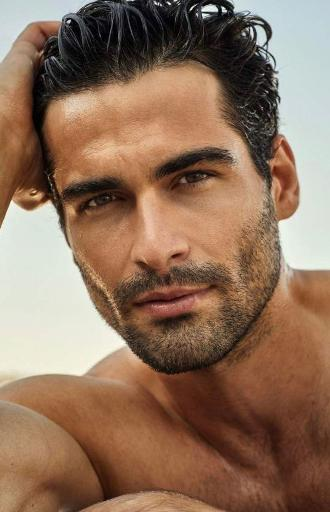left_eye: (169, 168, 225, 193)
left_lip_corner: (202, 277, 220, 302)
right_eye: (80, 190, 129, 216)
right_lip_corner: (129, 296, 147, 316)
